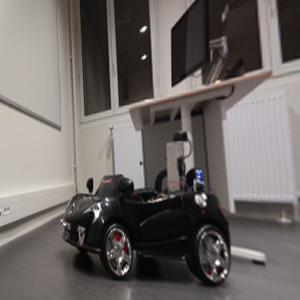big: (58, 167, 233, 288)
